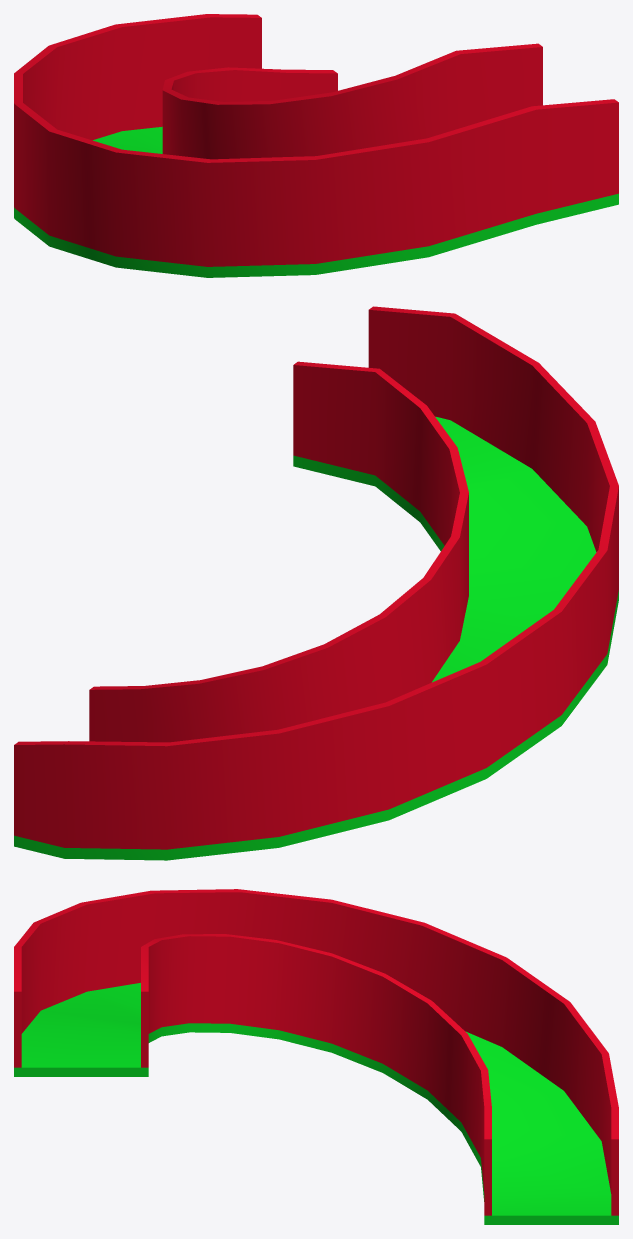
Rendered from Curved_Stairs.fbx.
3 views of the same model, one above another, from view 1: azimuth 30°, elevation 25°; view 2: azimuth 150°, elevation 25°; view 3: azimuth 270°, elevation 25° (orthographic). The views are drawn at different scales.
Visible parts, largest first — view 1: Cube.001; view 2: Cube.001; view 3: Cube.001.
Boxes of the visible parts, left/top/right/bottom form: Cube.001: left=14, top=14, right=618, bottom=277; Cube.001: left=14, top=306, right=618, bottom=860; Cube.001: left=14, top=889, right=618, bottom=1224.
Size of the model in its own units: 2383 by 1750 by 3930.
